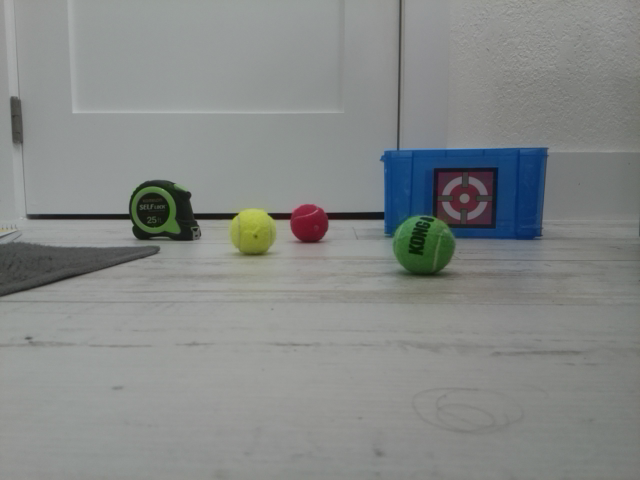drop-bin: (432, 165, 497, 229)
green-ball: (392, 213, 456, 277)
red-ball: (289, 202, 329, 244)
yellow-ball: (228, 206, 277, 257)
